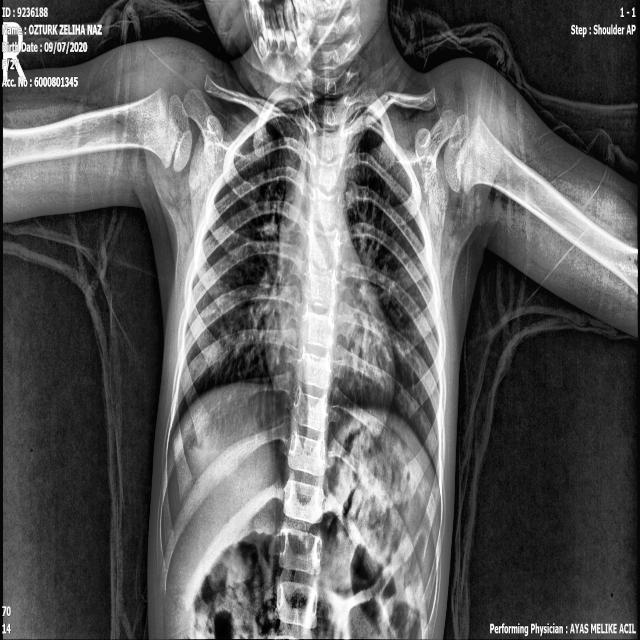Fracture: (378, 83, 398, 115)
